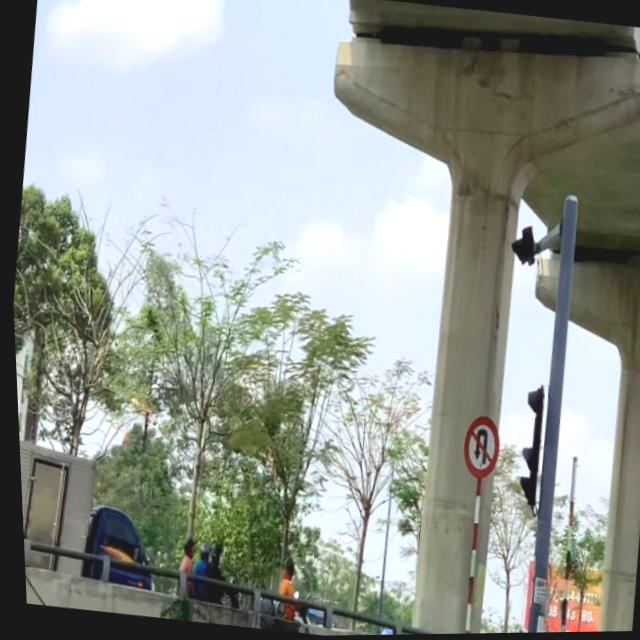Cam quay dau xe: (453, 413, 501, 482)
